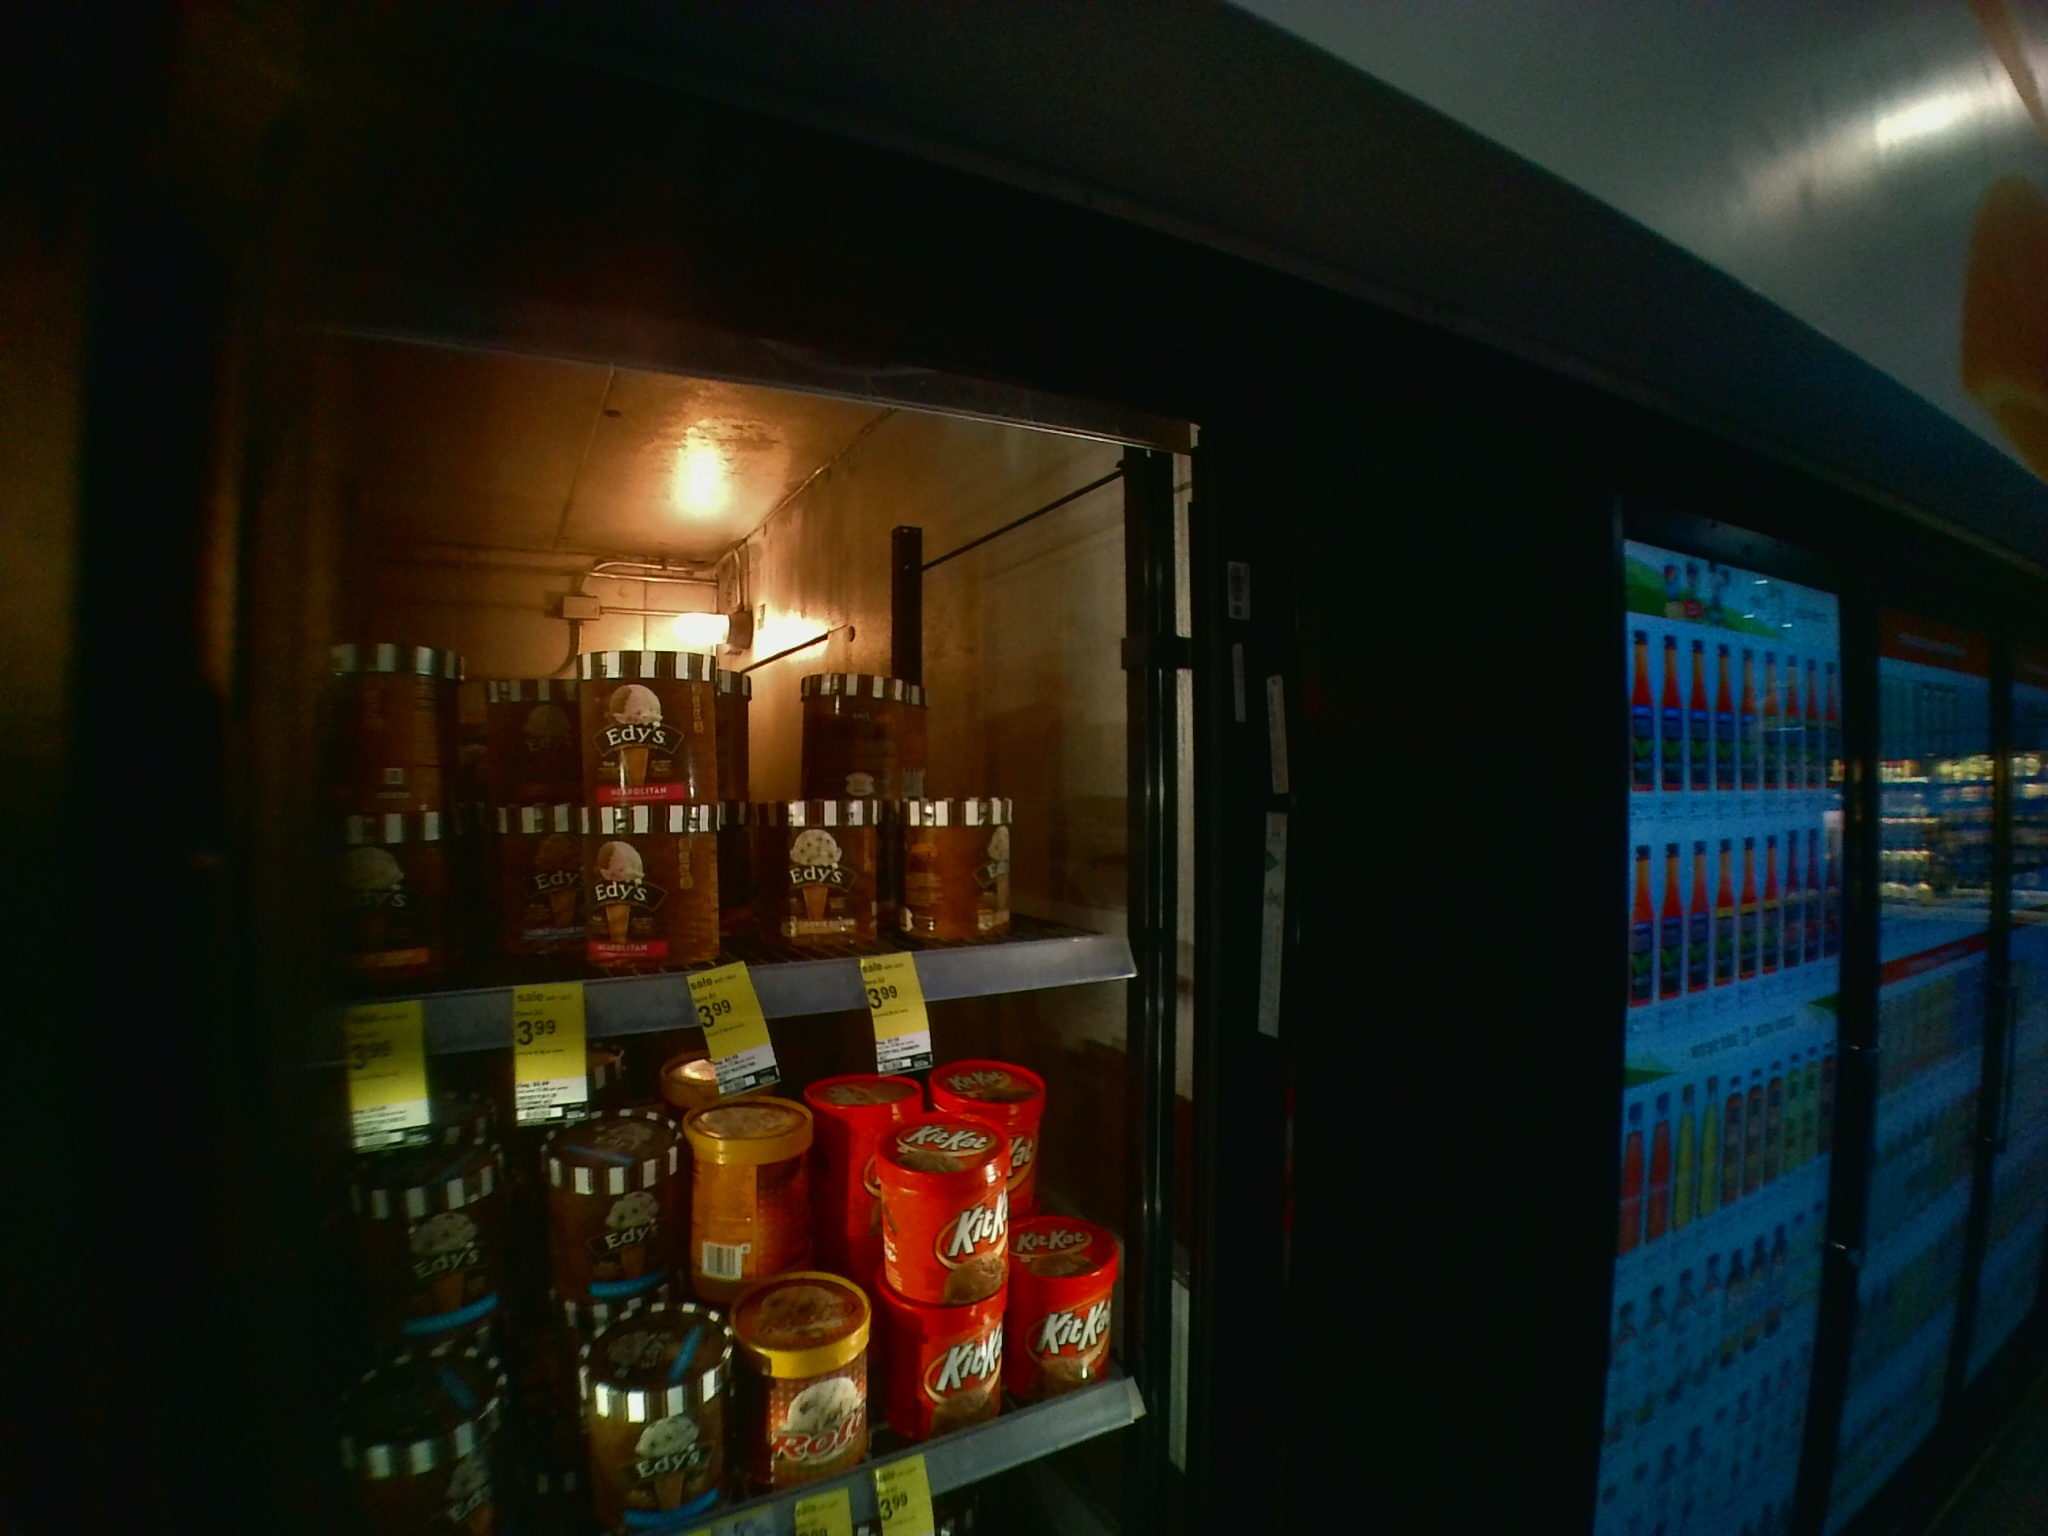shelf: (253, 424, 1132, 1049), (260, 1068, 1135, 1518)
